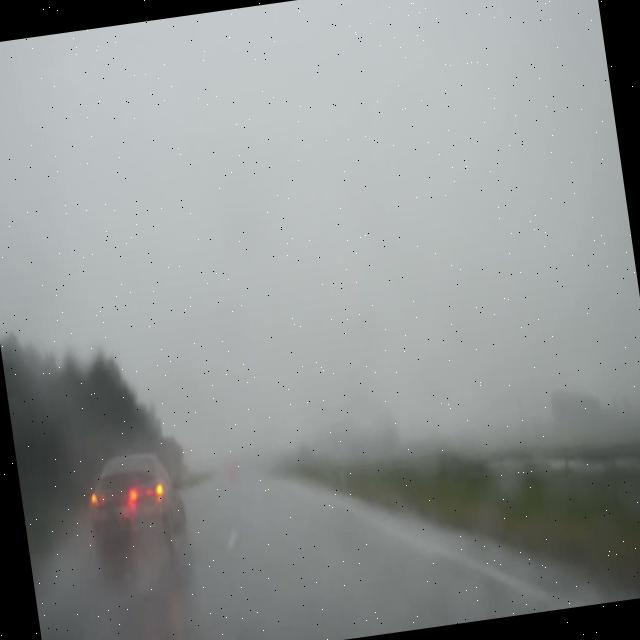car: (82, 447, 194, 578)
